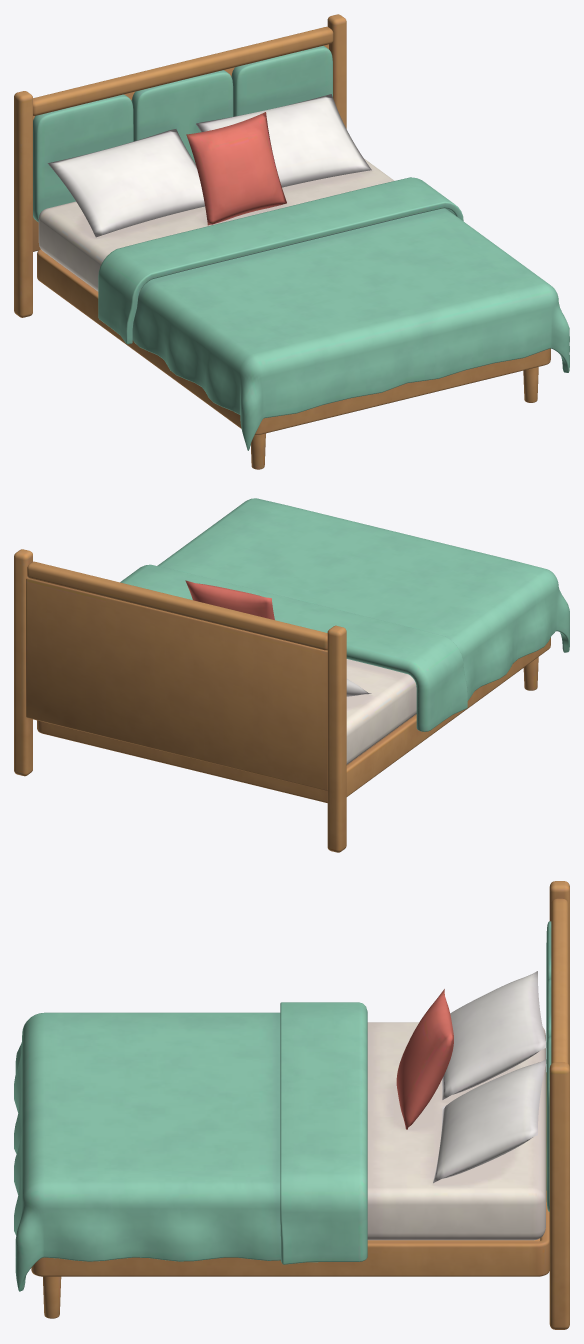
File: bed.glb
3 renders of one model, top to bottom at view 1: azimuth 30°, elevation 25°; view 2: azimuth 150°, elevation 25°; view 3: azimuth 270°, elevation 25°, orthographic. The views are drawn at different scales.
Parts seen in each view (by area): view 1: bed_body; view 2: bed_body; view 3: bed_body.
Boxes of the visible parts, bbox=[...] form: bed_body: bbox=[14, 14, 569, 469]; bed_body: bbox=[14, 498, 569, 852]; bed_body: bbox=[14, 881, 569, 1329].
Bounding box in the file's own units: 1.8 × 1.12 × 2.14.
Materials: 1 (1 with a texture image).
